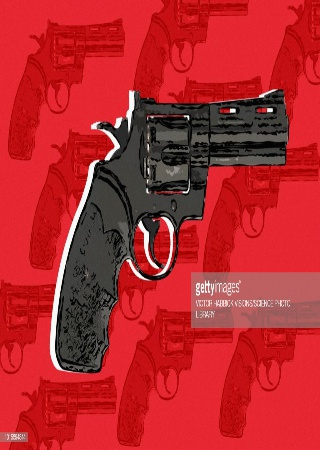handgun: (50, 88, 289, 376)
